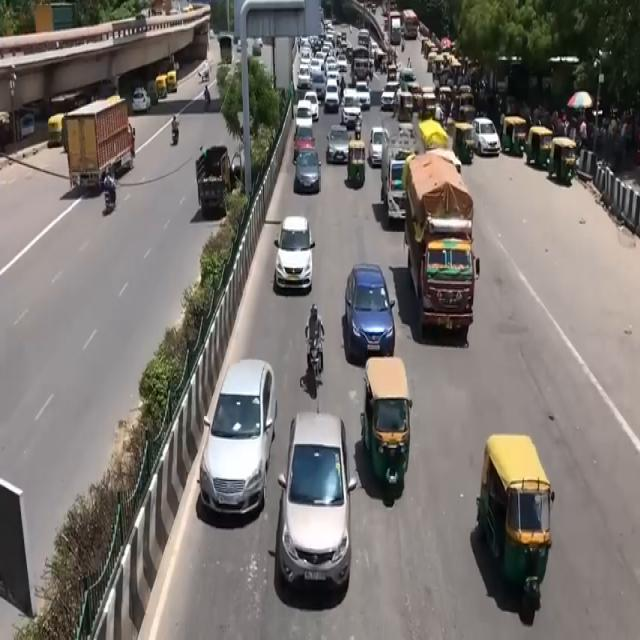TRUCK: (404, 156, 475, 346), (194, 123, 233, 220)
